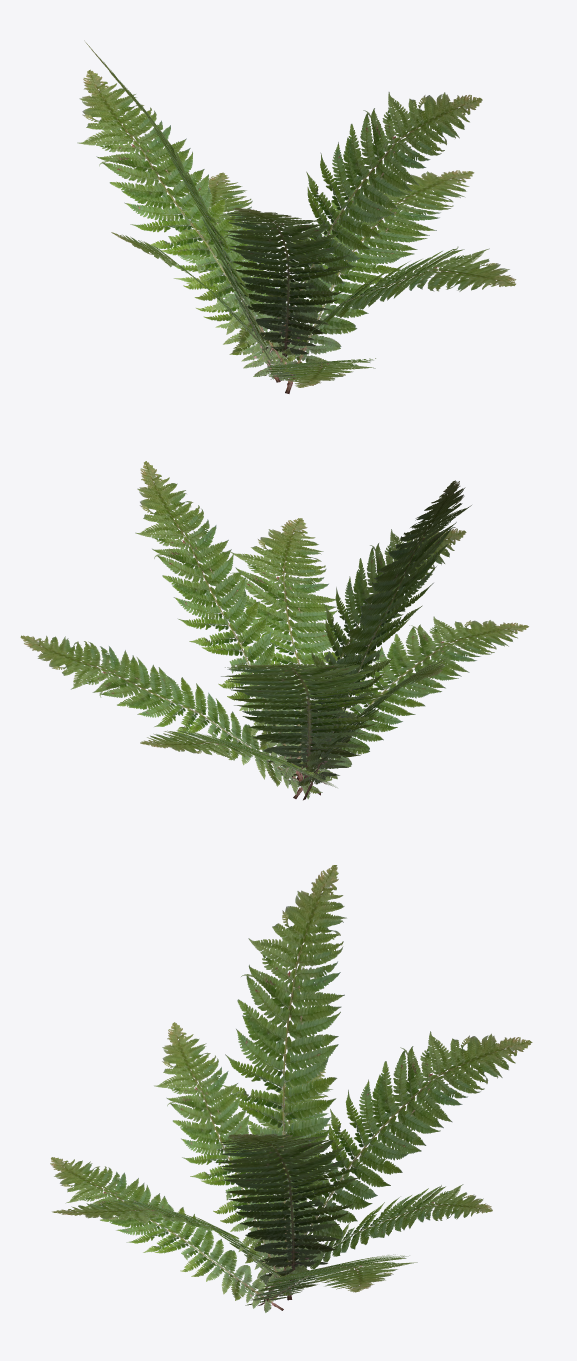
File: Fern2.fbx
The picture shows the model from 3 angles, top to bottom: view 1: azimuth 30°, elevation 25°; view 2: azimuth 150°, elevation 25°; view 3: azimuth 270°, elevation 25°; orthographic projection. The views are drawn at different scales.
Visible parts, largest first — view 1: Fern2; view 2: Fern2; view 3: Fern2.
Boxes of the visible parts, x1,y1,x2,y2 form: Fern2: [77, 40, 516, 393]; Fern2: [20, 461, 528, 800]; Fern2: [50, 865, 532, 1312].
Bounding box in the file's own units: 180 × 148 × 199.
